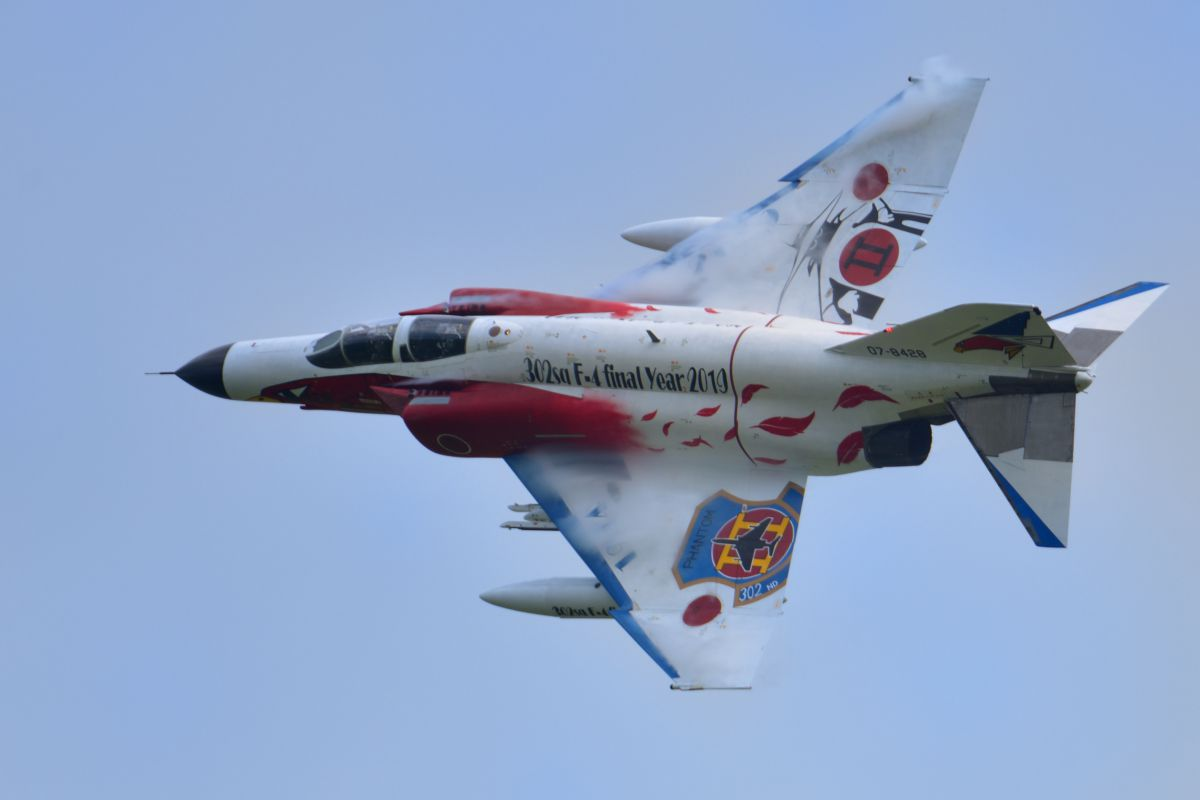F4: (143, 76, 1170, 692)
